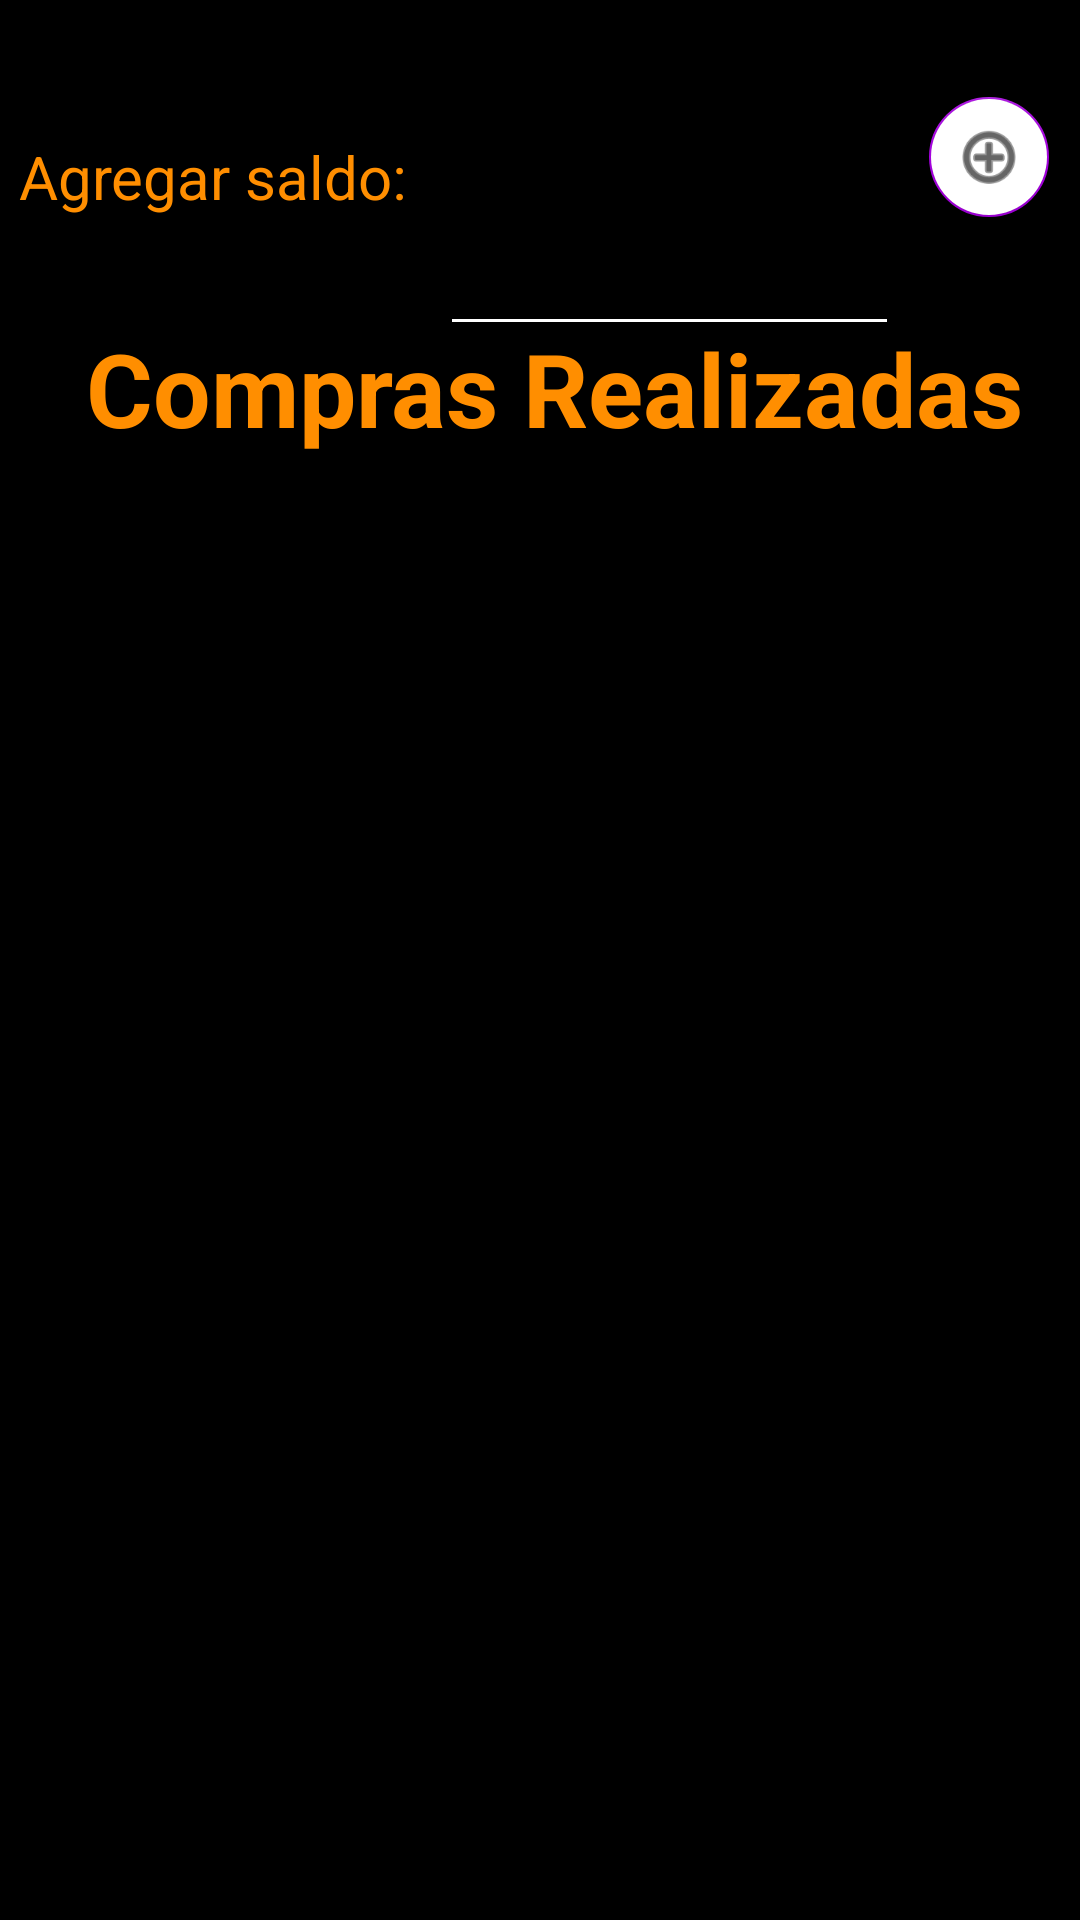

Named icons in this screenshot (1080 × 1920) and their bounding boxes, (x1, y1, x2, y2):
add: (929, 97, 1049, 217)
